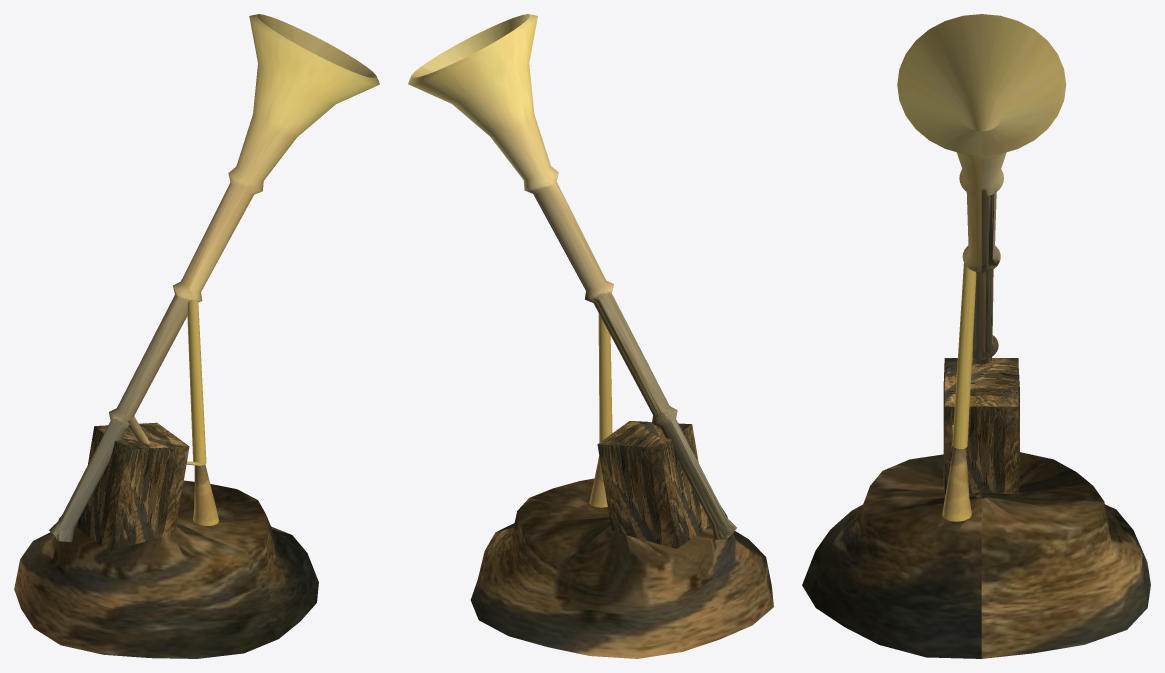
The model's file is choir-army-trumpet.glb.
3 views of the same model, side by side, from view 1: azimuth 30°, elevation 25°; view 2: azimuth 150°, elevation 25°; view 3: azimuth 270°, elevation 25° (orthographic). The views are drawn at different scales.
Parts seen in each view (by area): view 1: HeroRelicMonument; view 2: HeroRelicMonument; view 3: HeroRelicMonument.
Boxes of the visible parts, box(x1,y1,x2,y2) form: HeroRelicMonument: box(14, 14, 379, 658); HeroRelicMonument: box(408, 14, 773, 658); HeroRelicMonument: box(802, 14, 1150, 658).
Bounding box in the file's own units: 1.63 × 2.53 × 1.28.
Materials: 1 (1 with a texture image).
